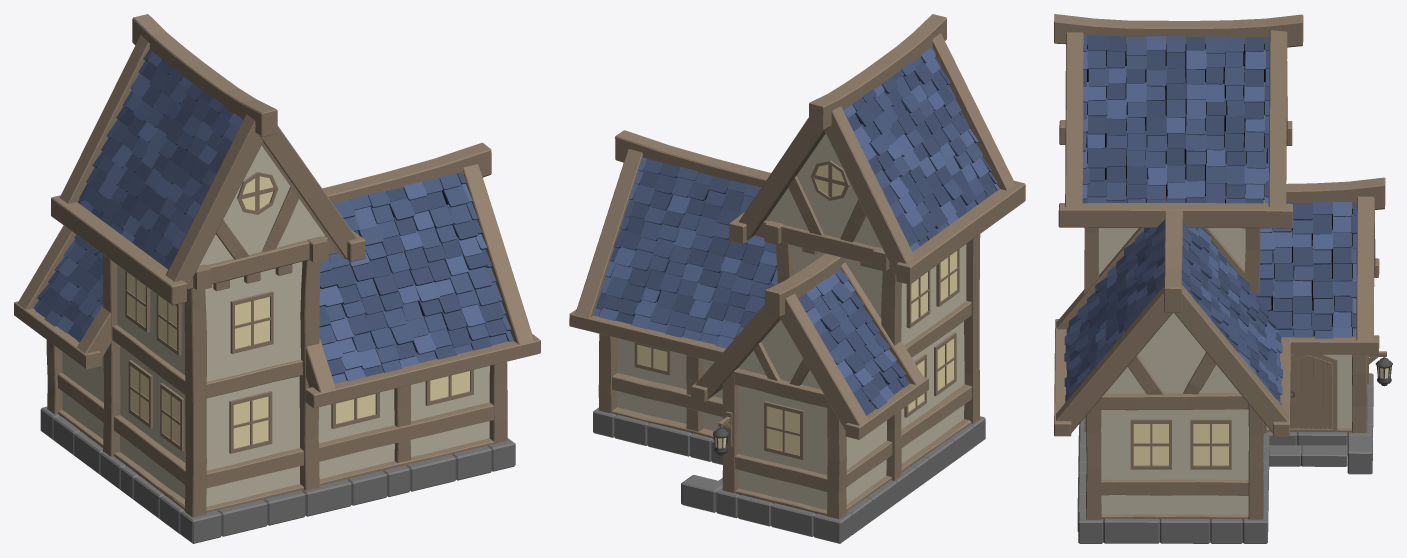
File: FantasyHosue.fbx
3 renders of one model, left to right at view 1: azimuth 30°, elevation 25°; view 2: azimuth 150°, elevation 25°; view 3: azimuth 270°, elevation 25°, orthographic. The views are drawn at different scales.
Parts seen in each view (by area): view 1: WoodStructure, RoofTiles, Walls, LargeStoneBricks, OutdoorWindowPanes, WindowFrames; view 2: WoodStructure, RoofTiles, Walls, LargeStoneBricks, OutdoorWindowPanes, WindowFrames; view 3: RoofTiles, WoodStructure, Walls, LargeStoneBricks, Door, OutdoorWindowPanes, WindowFrames, TileBacking.
Boxes of the visible parts, box(x1,y1,x2,y2) form: WoodStructure: box(14, 14, 540, 517); RoofTiles: box(33, 49, 513, 383); Walls: box(62, 145, 489, 506); LargeStoneBricks: box(40, 406, 515, 543); OutdoorWindowPanes: box(127, 176, 469, 448); WindowFrames: box(125, 172, 473, 453); WoodStructure: box(569, 14, 1025, 519); RoofTiles: box(593, 47, 999, 415); Walls: box(617, 133, 966, 509); LargeStoneBricks: box(593, 407, 985, 543); OutdoorWindowPanes: box(637, 164, 957, 455); WindowFrames: box(634, 160, 959, 459); RoofTiles: box(1064, 35, 1357, 405); WoodStructure: box(1054, 14, 1386, 521); Walls: box(1099, 228, 1352, 514); LargeStoneBricks: box(1077, 373, 1373, 543); Door: box(1290, 355, 1332, 428); OutdoorWindowPanes: box(1133, 424, 1228, 465); WindowFrames: box(1130, 419, 1231, 469); TileBacking: box(1086, 43, 1352, 336).
Bounding box in the file's own units: 79.98 × 87.11 × 65.73.
